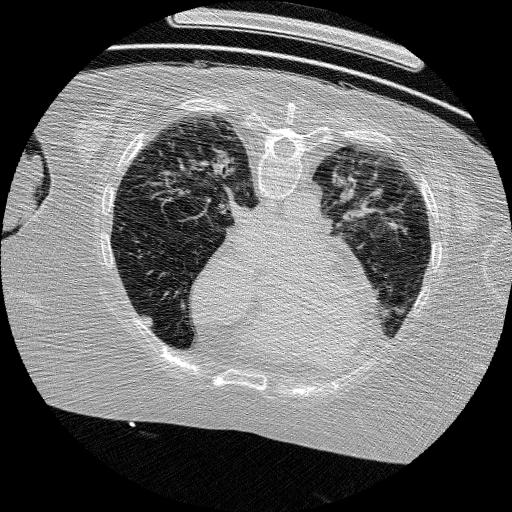nodule: (137, 313, 156, 332)
